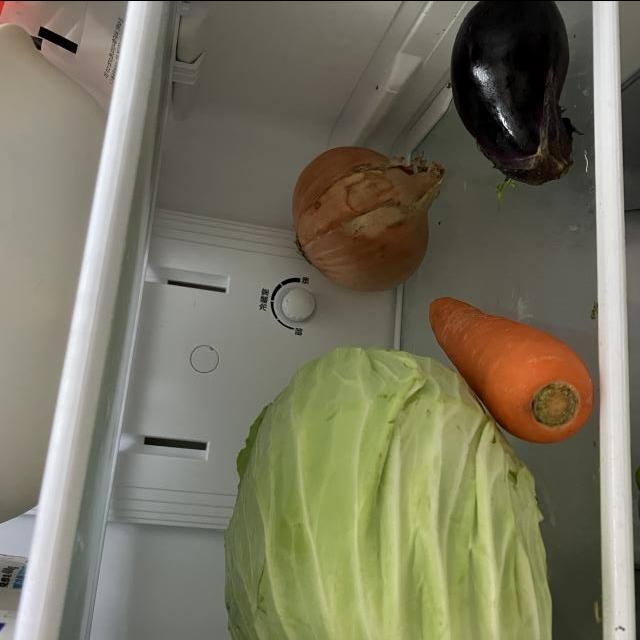cabbage: (222, 344, 558, 640)
carrot: (425, 293, 599, 447)
eggplant: (447, 1, 585, 185)
onion: (290, 144, 446, 296)
